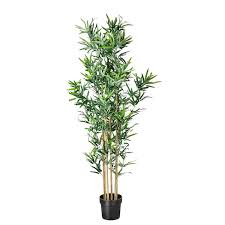bamboo: (62, 9, 165, 196)
